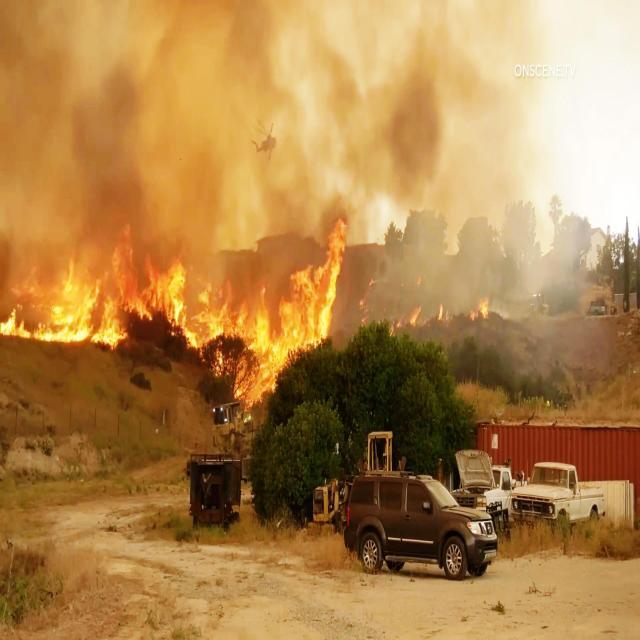Fire: (0, 208, 355, 422), (360, 277, 512, 337)
Smoke: (0, 2, 522, 223)
